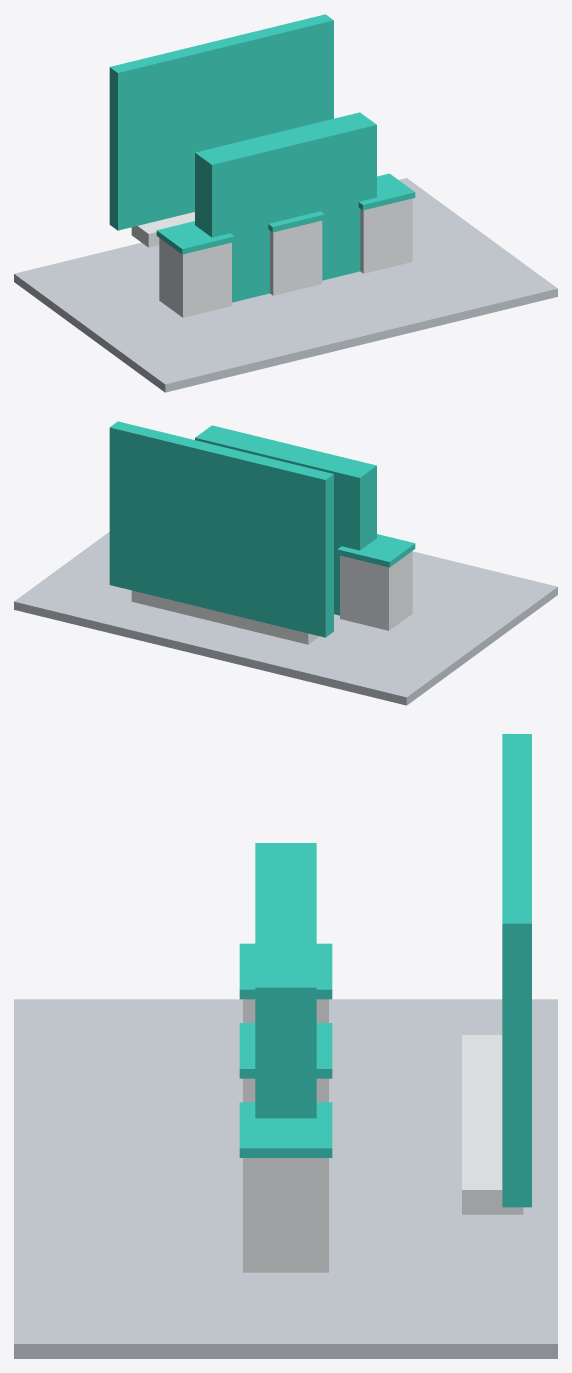
The picture shows the model from 3 angles, top to bottom: view 1: azimuth 30°, elevation 25°; view 2: azimuth 150°, elevation 25°; view 3: azimuth 270°, elevation 25°; orthographic projection. The views are drawn at different scales.
Visible parts, largest first — view 1: Exhibition Booth Concept; view 2: Exhibition Booth Concept; view 3: Exhibition Booth Concept.
Boxes of the visible parts, box(x1,y1,x2,y2) form: Exhibition Booth Concept: box(14, 14, 557, 392); Exhibition Booth Concept: box(14, 421, 557, 705); Exhibition Booth Concept: box(14, 734, 557, 1358).
Bounding box in the file's own units: 6 × 2.9 × 4.
